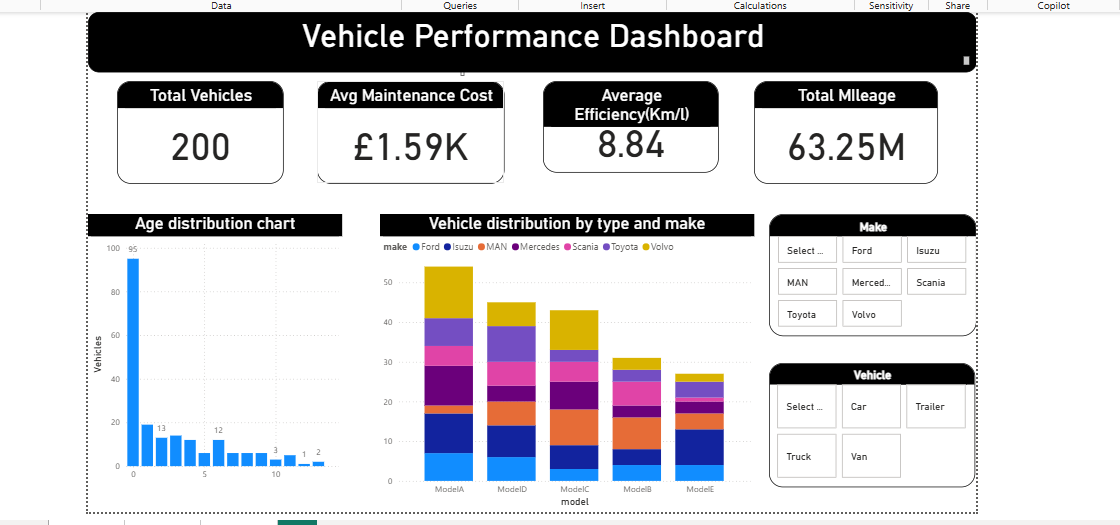

This screenshot's page, from the dashboard's own definition file:
{"tool":"powerbi","page":{"name":"Page 1","canvas":[1280,720],"ordinal":0},"visuals":[{"type":"card","title":"Total Vehicles","fields":{"Values":["Count(fleet_project_datasets_fixed_new.vehicle_id)"]},"box":[42,99.1,240.2,147.8],"z":0},{"type":"card","title":"Average Efficiency","fields":{"Values":["Avg(fleet_project_datasets_fixed_new.fuel_efficiency_km_l)"]},"box":[655.1,99.1,253.6,147.8],"z":1000},{"type":"card","title":"Total MIleage","fields":{"Values":["Sum(fleet_project_datasets_fixed_new.current_mileage_km)"]},"box":[959.2,99.1,265.4,147.8],"z":2000},{"type":"card","title":"Avg Maintenance Cost","fields":{"Values":["Avg(fleet_project_datasets_fixed_new.annual_maintenance_cost)"]},"box":[329.2,99.1,270.4,147.8],"z":3000},{"type":"columnChart","title":"Vehicle distribution by type and make","fields":{"Category":["fleet_project_datasets_fixed_new.model"],"Series":["fleet_project_datasets_fixed_new.make"],"Y":["CountNonNull(fleet_project_datasets_fixed_new.vehicle_id)"]},"box":[419.9,290.6,860.1,428.3],"z":4000},{"type":"clusteredColumnChart","title":"Age distribution chart","fields":{"Category":["fleet_project_datasets_fixed_new.vehicle_age_year"],"Y":["CountNonNull(fleet_project_datasets_fixed_new.vehicle_id)"]},"box":[0,290.6,366.2,393.1],"z":6000},{"type":"textbox","title":"Vehicle Performance Dashboard","box":[0,0,1280,87.3],"z":6001}]}

Visuals, with their boxes on the page's 1280x720 design canvas (x1, y1, x2, y2). These are canvas units, not pixel positions in the 1120x525 screenshot, which may show the page scaled, cropped or inside an application window:
"Total Vehicles" card: l=42, t=99, r=282, b=247
"Average Efficiency" card: l=655, t=99, r=909, b=247
"Total MIleage" card: l=959, t=99, r=1225, b=247
"Avg Maintenance Cost" card: l=329, t=99, r=600, b=247
"Vehicle distribution by type and make" columnChart: l=420, t=291, r=1280, b=719
"Age distribution chart" clusteredColumnChart: l=0, t=291, r=366, b=684
"Vehicle Performance Dashboard" textbox: l=0, t=0, r=1280, b=87
